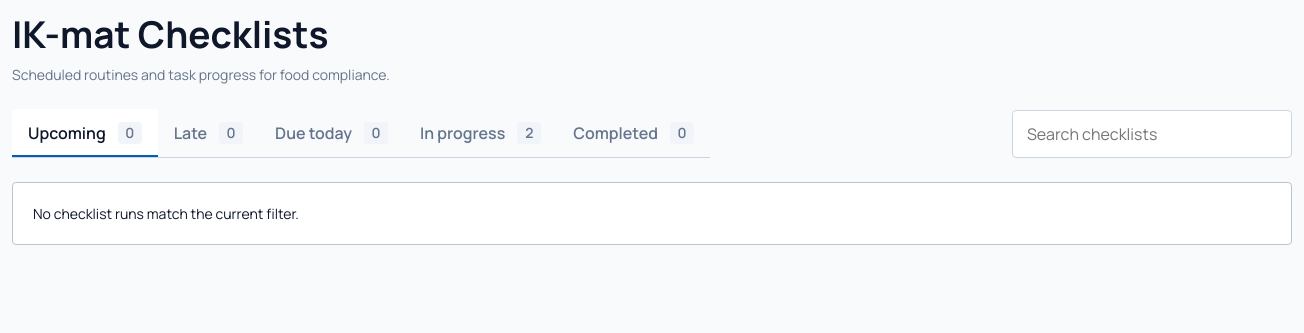
Test: IKMatChecklistsPage › aggregates checklist runs across multiple pages before filtering triage results
The image size is (1304, 333).
Click the button with class "triage-tab" showing "In progress 2".
click(481, 133)  # box [404,109,557,157]
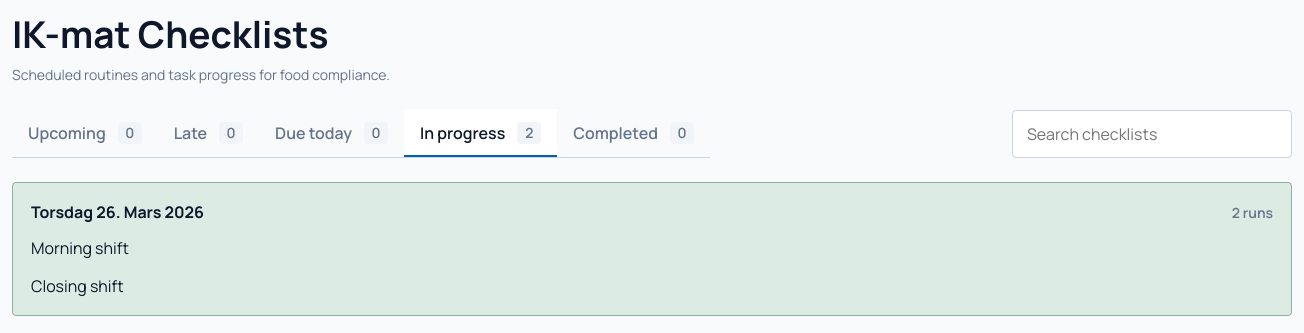
Expected: the text "Morning shift" is shown, [31,237,129,259]
Expected: the text "Closing shift" is shown, [31,275,124,297]
Expected: the number of elements with class "run-card-stub" is 2, [31,237,129,259]; [31,275,124,297]
